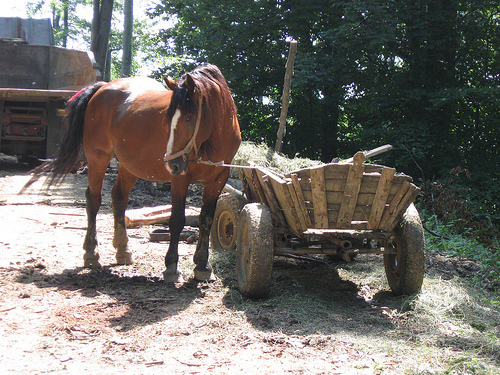horse: (45, 63, 243, 287)
